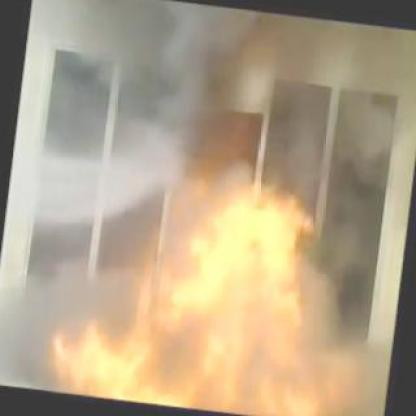Fire: (60, 200, 317, 416)
Smoke: (112, 0, 396, 183)
